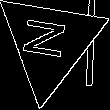N_E: (23, 19, 77, 67)
